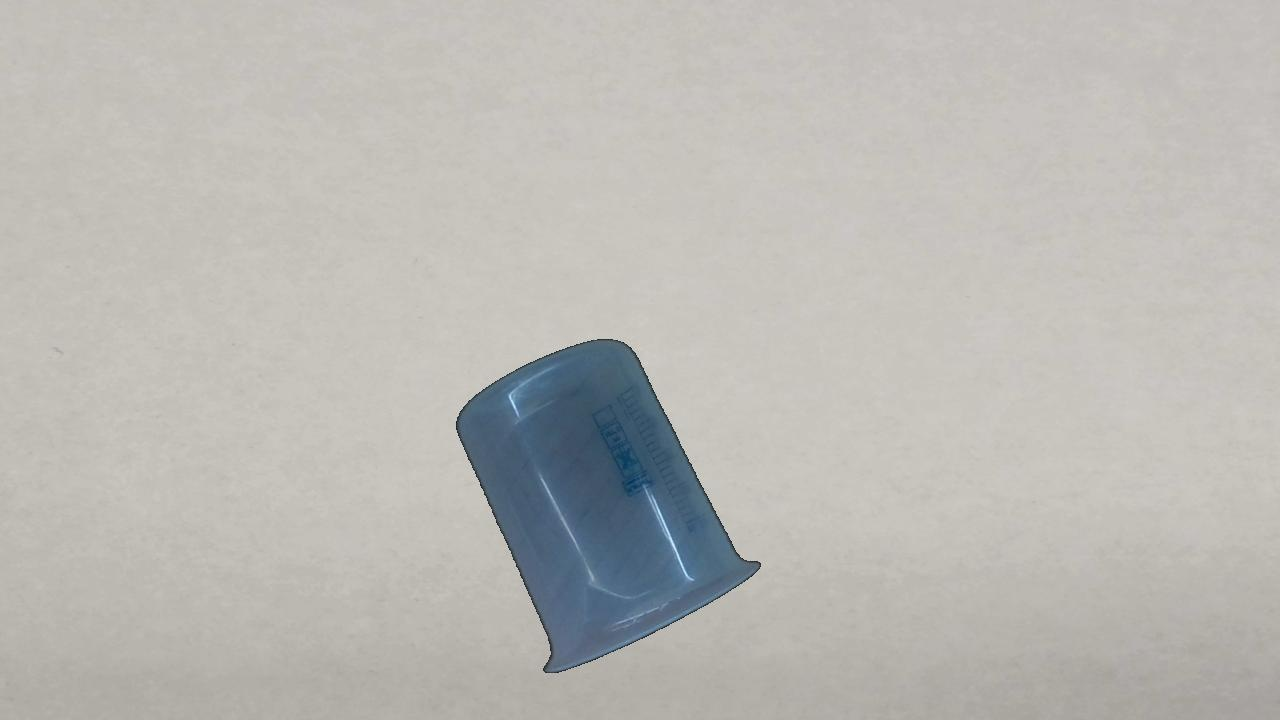cup: (455, 339, 761, 676)
